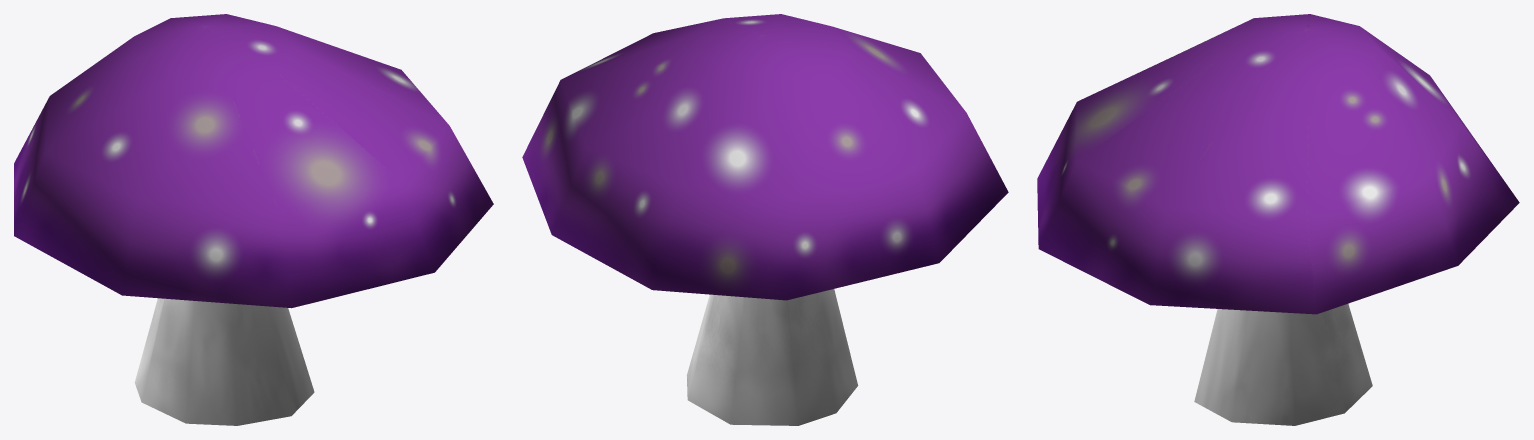
File: mushroom.glb
3 renders of one model, left to right at view 1: azimuth 30°, elevation 25°; view 2: azimuth 150°, elevation 25°; view 3: azimuth 270°, elevation 25°, orthographic. The views are drawn at different scales.
Visible parts, largest first — view 1: Cylinder; view 2: Cylinder; view 3: Cylinder.
Boxes of the visible parts, left/top/right/bottom form: Cylinder: left=14, top=14, right=493, bottom=425; Cylinder: left=522, top=14, right=1008, bottom=425; Cylinder: left=1037, top=14, right=1519, bottom=425.
Size of the model in its own units: 4.87 by 4.02 by 4.92.
1 material, 1 textured.
